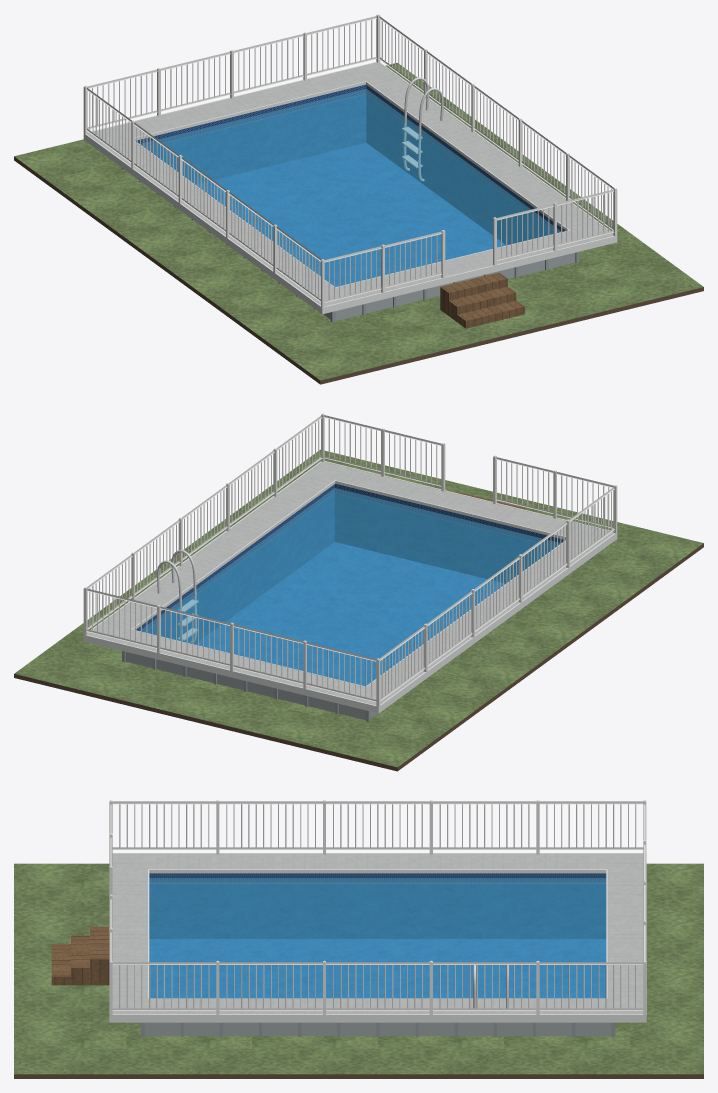
Rendered from kayak-pool-16x24-gray-walk-rec-fence.f16f666854.glb.
3 views of the same model, one above another, from view 1: azimuth 30°, elevation 25°; view 2: azimuth 150°, elevation 25°; view 3: azimuth 270°, elevation 25° (orthographic). The views are drawn at different scales.
Visible parts, largest first — view 1: water, ground, fence, liner_floor, liner_wall, deck, fascia, steps, soil, wall, steel; view 2: water, ground, fence, liner_floor, liner_wall, deck, fascia, soil, wall, steel; view 3: water, ground, liner_wall, deck, liner_floor, fence, fascia, wall, soil, steps, upright.
Boxes of the visible parts, x1,y1,x2,y2 form: water: (141, 89, 560, 286); ground: (14, 63, 703, 380); fence: (83, 14, 617, 307); liner_floor: (195, 143, 505, 286); liner_wall: (135, 84, 565, 244); deck: (87, 62, 613, 306); fascia: (83, 61, 617, 314); steps: (440, 272, 524, 328); soil: (14, 156, 703, 384); wall: (323, 253, 575, 320); steel: (402, 77, 443, 181); water: (140, 488, 560, 685); ground: (14, 449, 703, 767); fence: (83, 413, 617, 706); liner_floor: (195, 542, 505, 685); liner_wall: (136, 483, 565, 644); deck: (87, 461, 613, 705); fascia: (83, 461, 617, 713); soil: (14, 543, 703, 771); wall: (125, 652, 377, 719); steel: (157, 550, 198, 643); water: (149, 878, 606, 998); ground: (14, 863, 703, 1074); liner_wall: (149, 873, 606, 938); deck: (112, 854, 643, 1014); liner_floor: (149, 939, 606, 998); fence: (109, 800, 646, 1014); fascia: (109, 853, 646, 1022); wall: (144, 1022, 611, 1035); soil: (14, 1074, 703, 1078); steps: (51, 926, 109, 985); upright: (140, 1022, 615, 1036).
Size of the model in its own units: 7.92 by 2.15 by 10.97.
13 materials, 5 textured.
